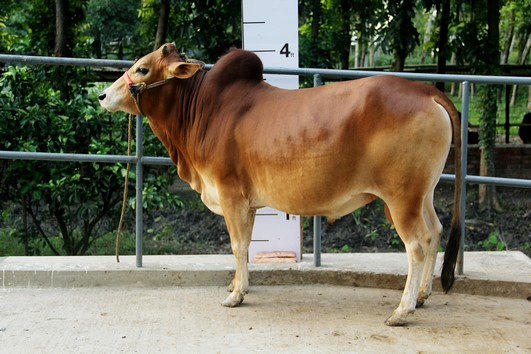cow: (89, 33, 472, 333)
